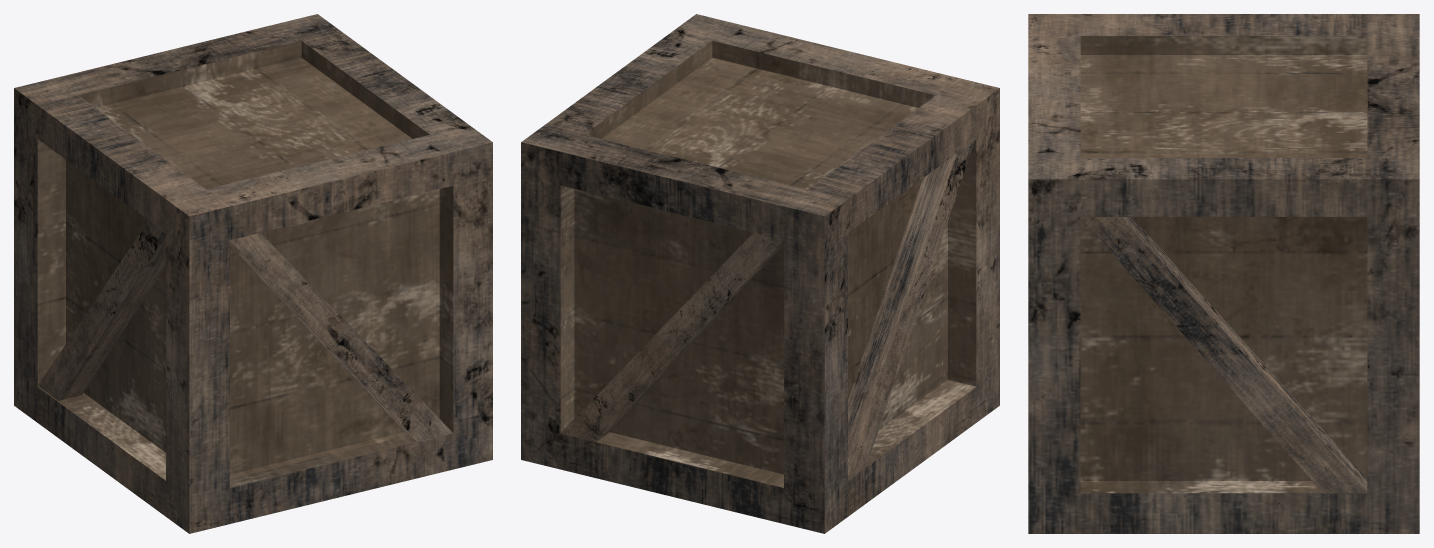
The model's file is CrateBox_Samll_TX.fbx.
The picture shows the model from 3 angles, left to right: view 1: azimuth 30°, elevation 25°; view 2: azimuth 150°, elevation 25°; view 3: azimuth 270°, elevation 25°; orthographic projection. The views are drawn at different scales.
Visible parts, largest first — view 1: CrateSmalll; view 2: CrateSmalll; view 3: CrateSmalll.
Boxes of the visible parts, x1=… form: CrateSmalll: x1=14, y1=14, x2=492, y2=533; CrateSmalll: x1=521, y1=14, x2=999, y2=533; CrateSmalll: x1=1028, y1=14, x2=1419, y2=533.
Size of the model in its own units: 136 by 136 by 136.
Materials: 1 (1 with a texture image).
